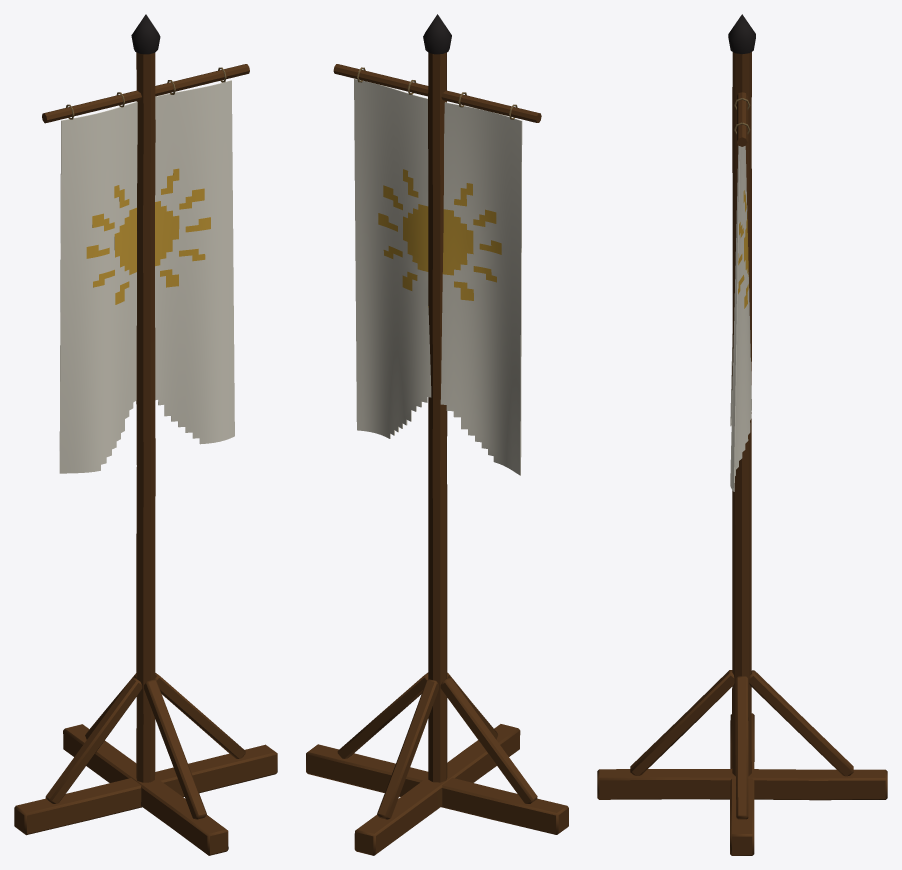
File: banner_weiss.glb
The picture shows the model from 3 angles, left to right: view 1: azimuth 30°, elevation 25°; view 2: azimuth 150°, elevation 25°; view 3: azimuth 270°, elevation 25°; orthographic projection.
Visible parts, largest first — view 1: banner_weiss; view 2: banner_weiss; view 3: banner_weiss.
Boxes of the visible parts, x1,y1,x2,y2 form: banner_weiss: (14, 14, 277, 855); banner_weiss: (306, 14, 568, 855); banner_weiss: (597, 14, 887, 855).
Bounding box in the file's own units: 1.2 × 3.56 × 1.2.
